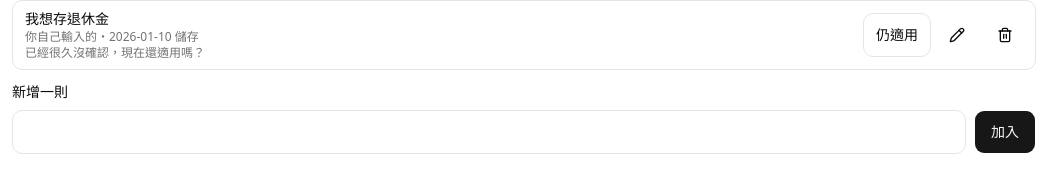
Test: MemoryEditor › the record of each note › asks about an old note and restarts its clock when the person confirms
Expected: the text "已經很久沒確認，現在還適用嗎？" is shown, [25,44,205,61]
Click the button with aria-label "仍適用：我想存退休金" at (897, 35), box [863,13,931,57]
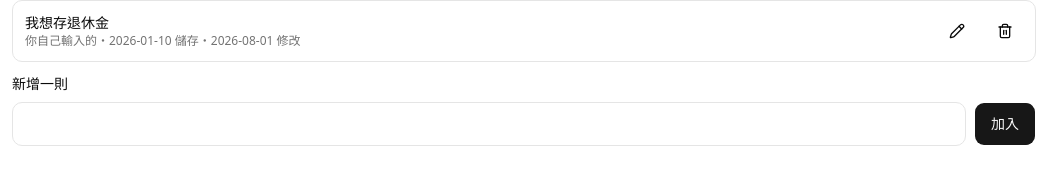
Expected: the text "已經很久沒確認，現在還適用嗎？" is gone
